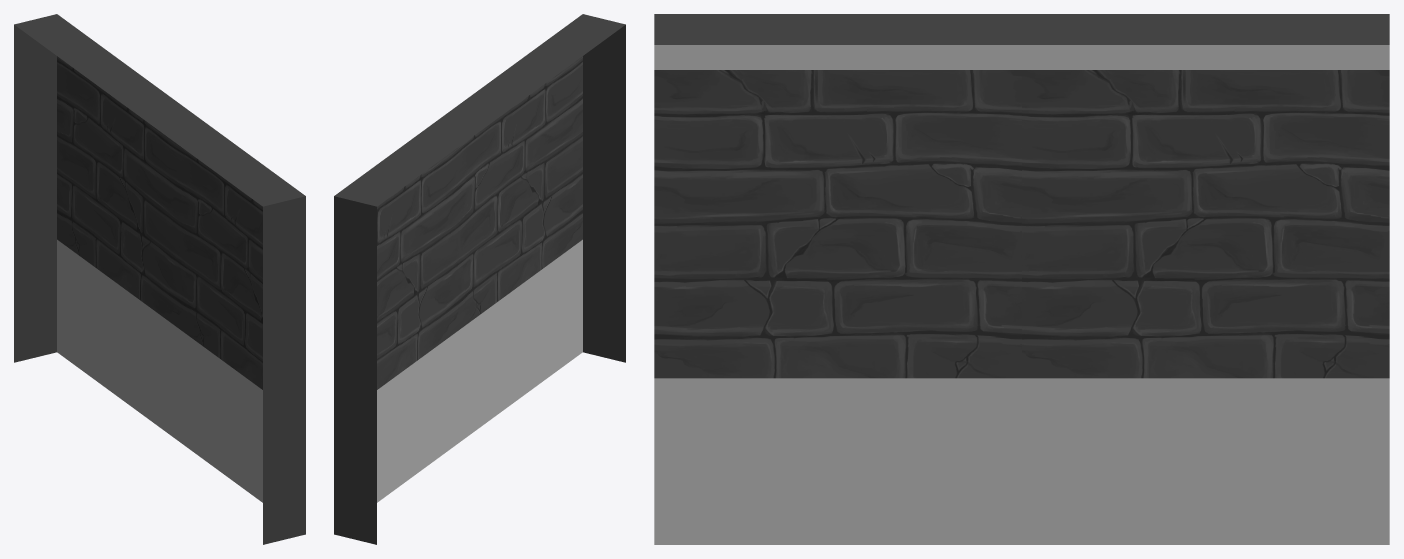
File: SM_ModularKit_WallSquare.fbx
The picture shows the model from 3 angles, left to right: view 1: azimuth 30°, elevation 25°; view 2: azimuth 150°, elevation 25°; view 3: azimuth 270°, elevation 25°; orthographic projection. The views are drawn at different scales.
Parts seen in each view (by area): view 1: WallSquare; view 2: WallSquare; view 3: WallSquare.
Part boxes in pixels (x1,y1,x2,y2): WallSquare: [14, 14, 305, 544]; WallSquare: [334, 14, 625, 544]; WallSquare: [654, 14, 1389, 544].
Size of the model in its own units: 40 by 300 by 400.
